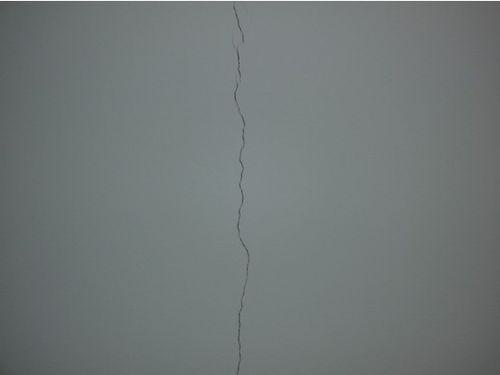Crack: (233, 1, 251, 375)
